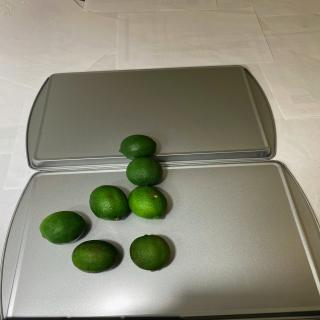Chilli: (39, 134, 173, 274)
Lemon: (71, 240, 119, 274), (39, 210, 86, 244), (129, 234, 171, 272), (89, 184, 128, 220), (128, 186, 168, 220), (126, 157, 163, 186), (118, 134, 156, 160)
